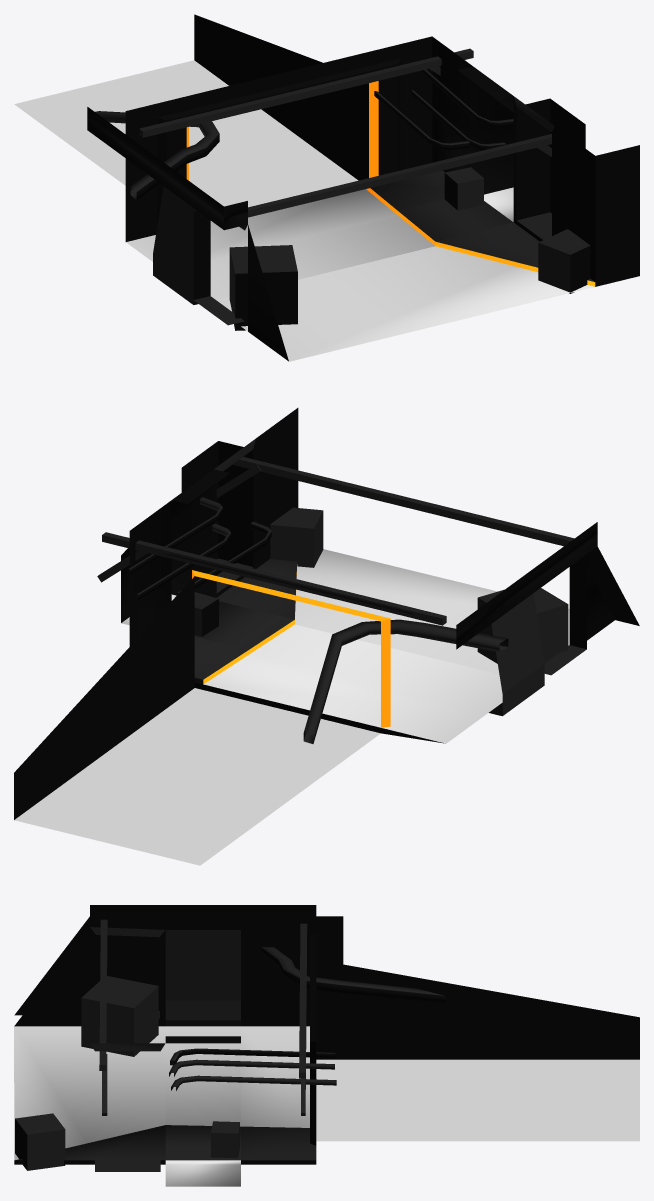
Rendered from 1Tile3.fbx.
The picture shows the model from 3 angles, top to bottom: view 1: azimuth 30°, elevation 25°; view 2: azimuth 150°, elevation 25°; view 3: azimuth 270°, elevation 25°; orthographic projection. The views are drawn at different scales.
Parts seen in each view (by area): view 1: Plane, Cube.030, Cube.012, Cube.011, Cube.031, Cube.023, Cube.035, Cube.013, Cube.014, Cube.015; view 2: Plane, Cube.023, Cube.011, Cube.012, Cube.031, Cube.030, Cube.035, Cube.014, Cube.015; view 3: Plane, Cube.030, Cube.031, Cube.023, Cube.012, Cube.011, Cube.035, Cube.015, Cube.014, Cube.013.
Part boxes in pixels (x1,y1,x2,y2): Plane: (14, 14, 639, 361); Cube.030: (229, 245, 297, 330); Cube.012: (139, 48, 473, 137); Cube.011: (248, 134, 551, 217); Cube.031: (538, 229, 590, 293); Cube.023: (95, 111, 219, 200); Cube.035: (444, 167, 483, 210); Cube.013: (374, 91, 470, 149); Cube.014: (420, 69, 513, 127); Cube.015: (411, 90, 506, 150); Plane: (14, 408, 639, 865); Cube.023: (303, 619, 508, 743); Cube.011: (232, 457, 574, 546); Cube.012: (102, 532, 446, 625); Cube.031: (270, 507, 323, 567); Cube.030: (477, 588, 568, 663); Cube.035: (194, 592, 218, 636); Cube.014: (128, 497, 222, 574); Cube.015: (136, 523, 231, 599); Plane: (14, 905, 639, 1186); Cube.030: (81, 976, 158, 1056); Cube.031: (15, 1113, 65, 1170); Cube.023: (261, 947, 445, 1003); Cube.012: (299, 923, 307, 1078); Cube.011: (99, 919, 107, 1070); Cube.035: (211, 1121, 239, 1158); Cube.015: (171, 1075, 336, 1090); Cube.014: (169, 1059, 334, 1076); Cube.013: (170, 1048, 335, 1065).
Size of the model in its own units: 10777 by 3699 by 16625.
